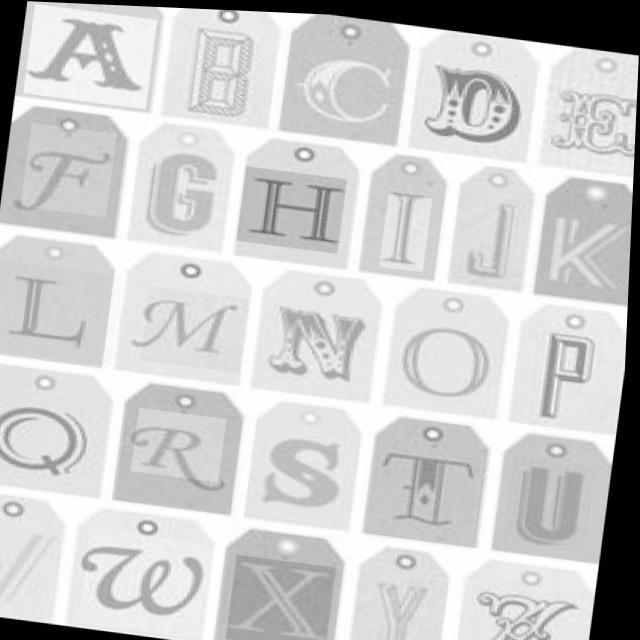A: (33, 16, 140, 94)
B: (182, 23, 254, 120)
C: (289, 56, 400, 131)
D: (421, 59, 524, 143)
E: (547, 83, 632, 160)
F: (14, 139, 104, 224)
G: (137, 150, 222, 242)
H: (252, 169, 342, 252)
I: (373, 184, 427, 274)
J: (460, 186, 518, 282)
K: (548, 207, 618, 300)
L: (6, 268, 90, 348)
M: (137, 296, 239, 358)
N: (398, 322, 492, 406), (269, 304, 364, 382)
P: (531, 329, 600, 420)
R: (130, 418, 230, 496)
S: (258, 433, 349, 511)
T: (374, 444, 482, 528)
U: (507, 458, 592, 550)
W: (78, 540, 210, 618)
